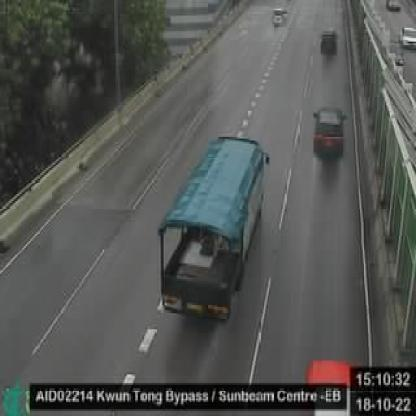Car: (311, 106, 348, 164), (318, 27, 340, 57), (271, 5, 290, 30), (400, 23, 416, 51), (383, 1, 402, 13)
Truck: (157, 136, 270, 325)
